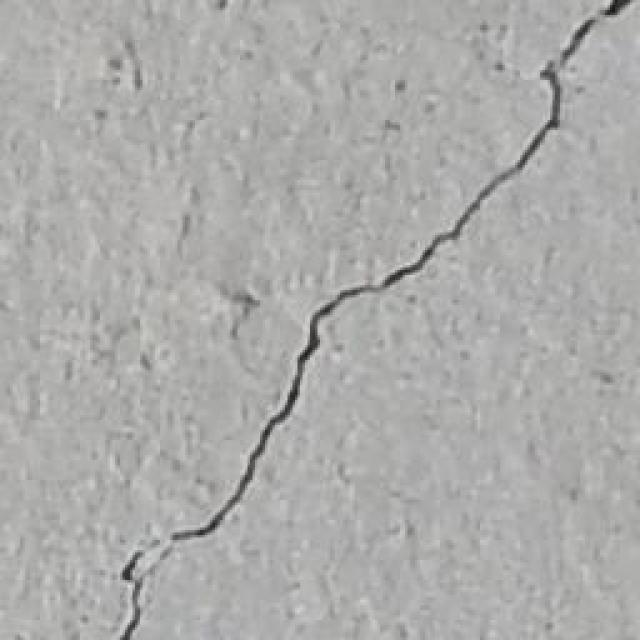concrete-crack: (113, 0, 640, 640)
